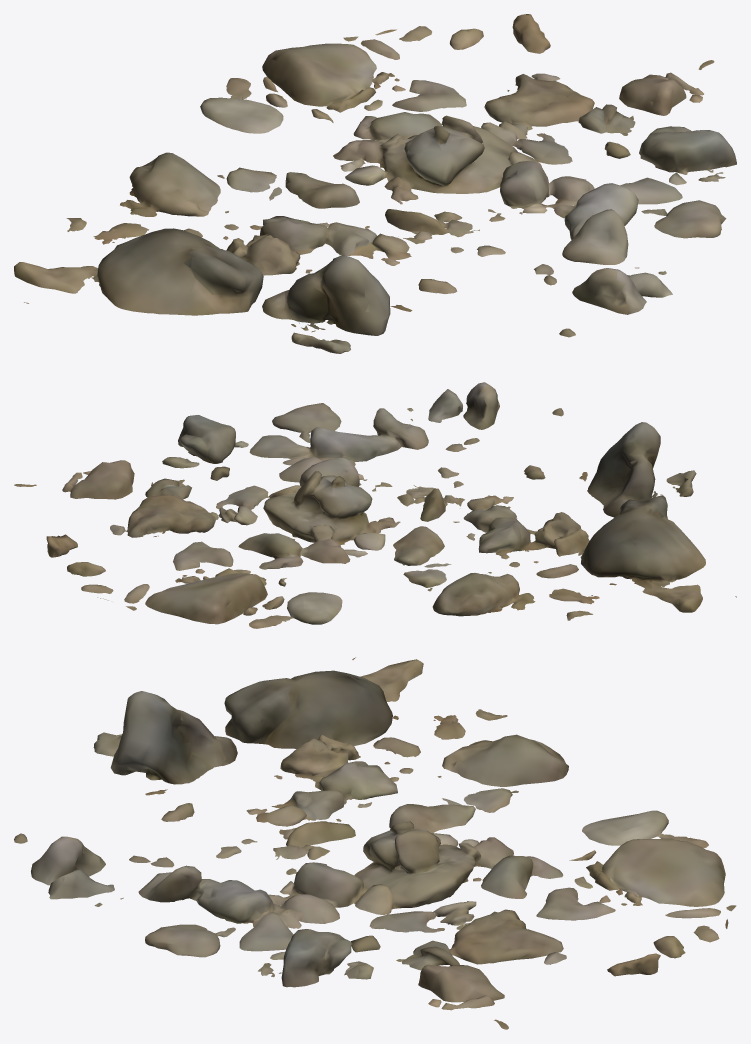
Rendered from ph_sandrocks.glb.
3 views of the same model, one above another, from view 1: azimuth 30°, elevation 25°; view 2: azimuth 150°, elevation 25°; view 3: azimuth 270°, elevation 25° (orthographic). The views are drawn at different scales.
Visible parts, largest first — view 1: ph_sandrocks_lod1; view 2: ph_sandrocks_lod1; view 3: ph_sandrocks_lod1.
Boxes of the visible parts, x1,y1,x2,y2 form: ph_sandrocks_lod1: [14, 14, 736, 353]; ph_sandrocks_lod1: [14, 382, 736, 628]; ph_sandrocks_lod1: [14, 657, 736, 1029].
Size of the model in its own units: 4.39 by 0.3957 by 3.61.
Materials: 1 (1 with a texture image).
